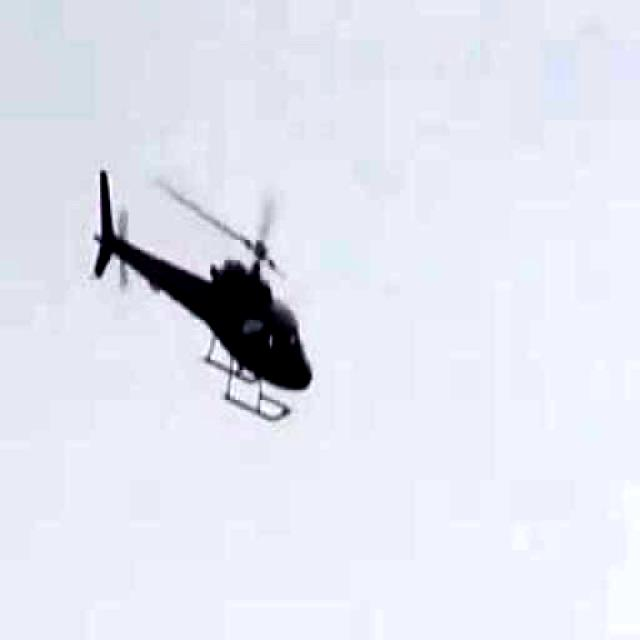drone: (82, 145, 320, 452)
